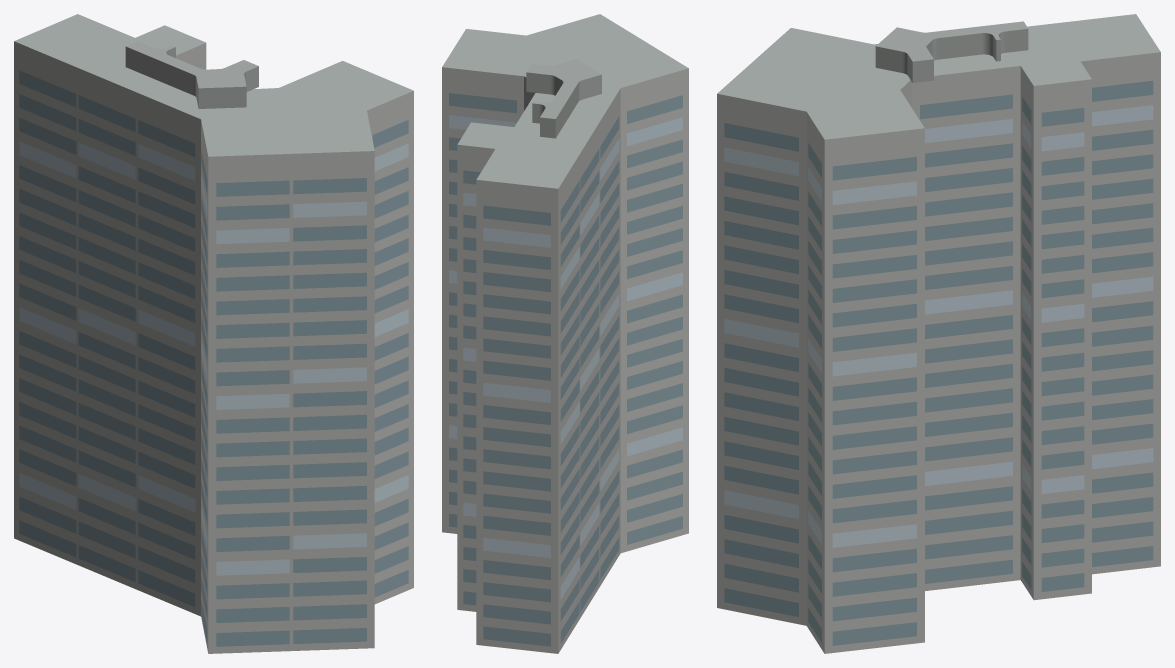
The model's file is fallback-geumho-park-hills-113.glb.
The picture shows the model from 3 angles, left to right: view 1: azimuth 30°, elevation 25°; view 2: azimuth 150°, elevation 25°; view 3: azimuth 270°, elevation 25°; orthographic projection. The views are drawn at different scales.
Visible parts, largest first — view 1: fallback-geumho-park-hills-113; view 2: fallback-geumho-park-hills-113; view 3: fallback-geumho-park-hills-113.
Part boxes in pixels (x1=…): fallback-geumho-park-hills-113: x1=14, y1=14, x2=413, y2=653; fallback-geumho-park-hills-113: x1=442, y1=14, x2=688, y2=653; fallback-geumho-park-hills-113: x1=717, y1=14, x2=1160, y2=653.
Size of the model in its own units: 30.21 by 60 by 45.06.
